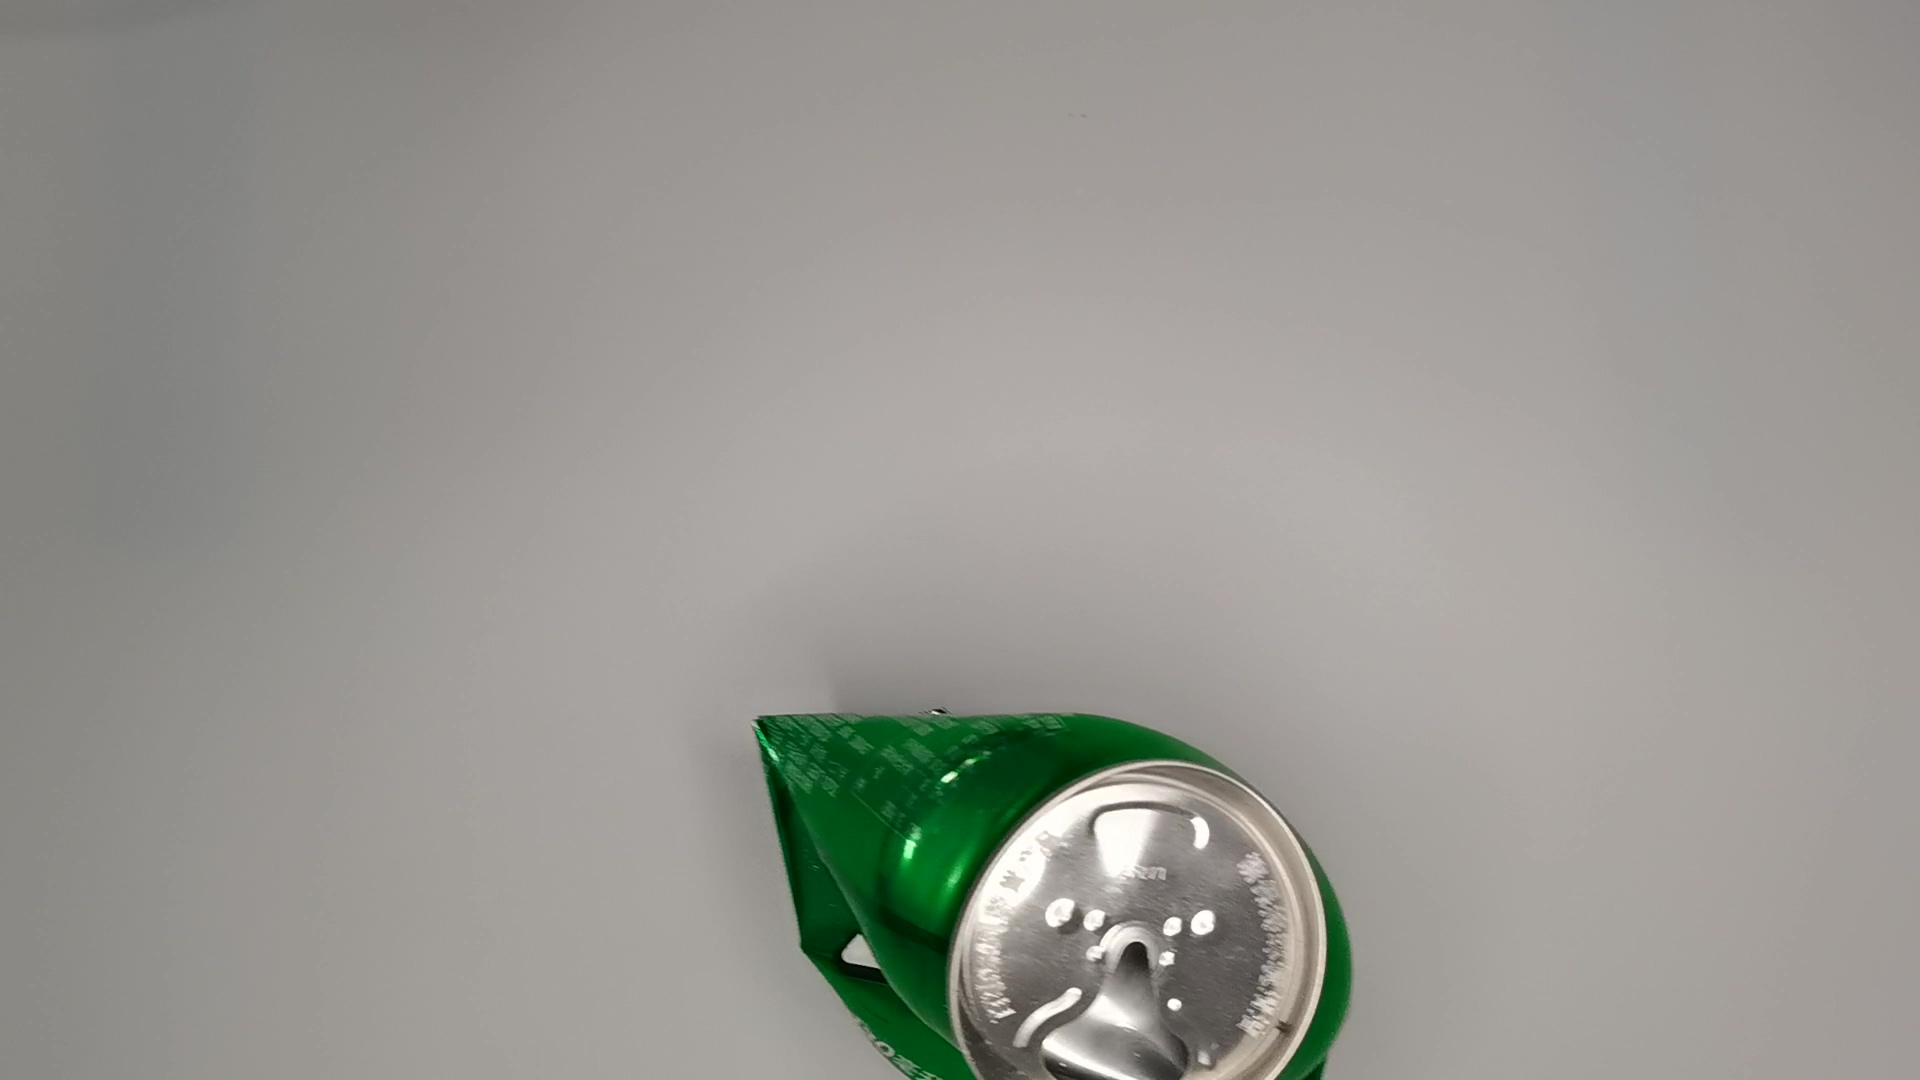can: (742, 690, 1371, 1080)
